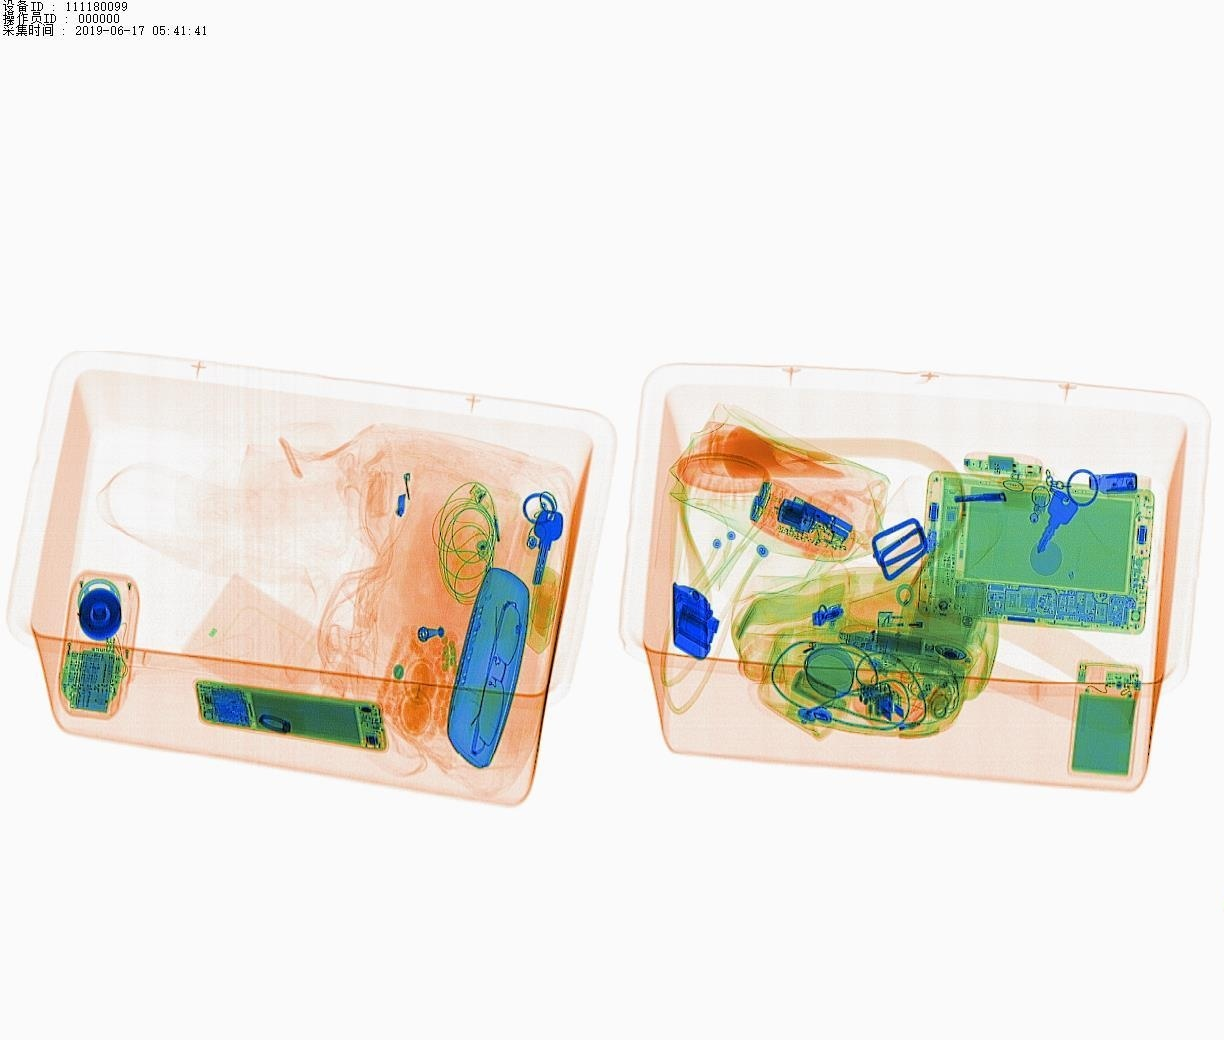NonmetallicFire: (868, 604, 972, 640)
